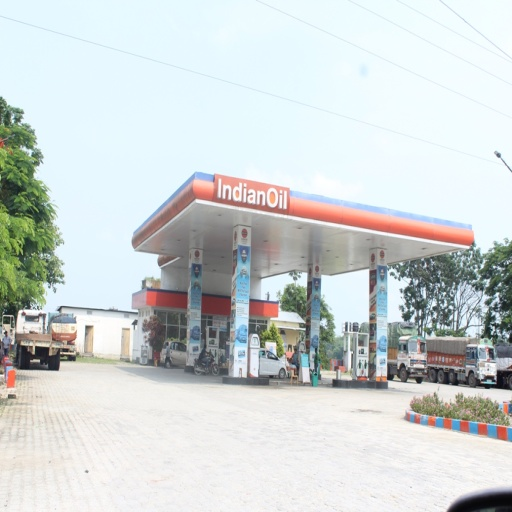roof: (130, 170, 476, 274)
